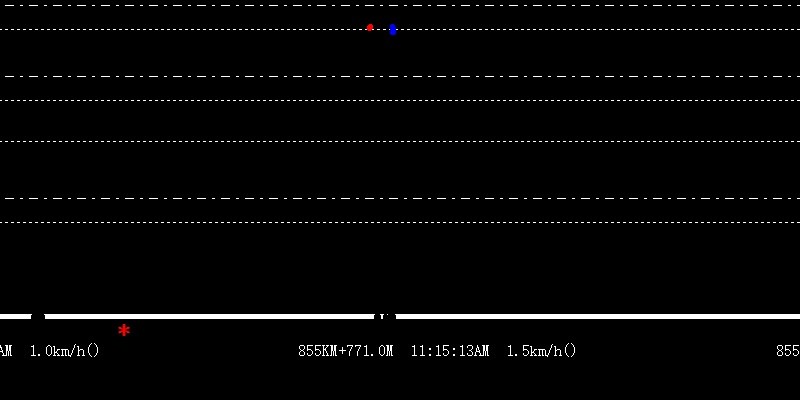face_1: (363, 20, 377, 37), (389, 20, 400, 39)
star: (115, 321, 132, 338)
